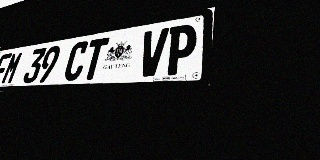3: (21, 47, 47, 83)
9: (35, 45, 62, 83)
C: (62, 40, 90, 81)
F: (0, 53, 12, 85)
M: (0, 51, 24, 85)
P: (163, 23, 198, 76)
T: (80, 37, 110, 80)
V: (136, 27, 169, 77)
